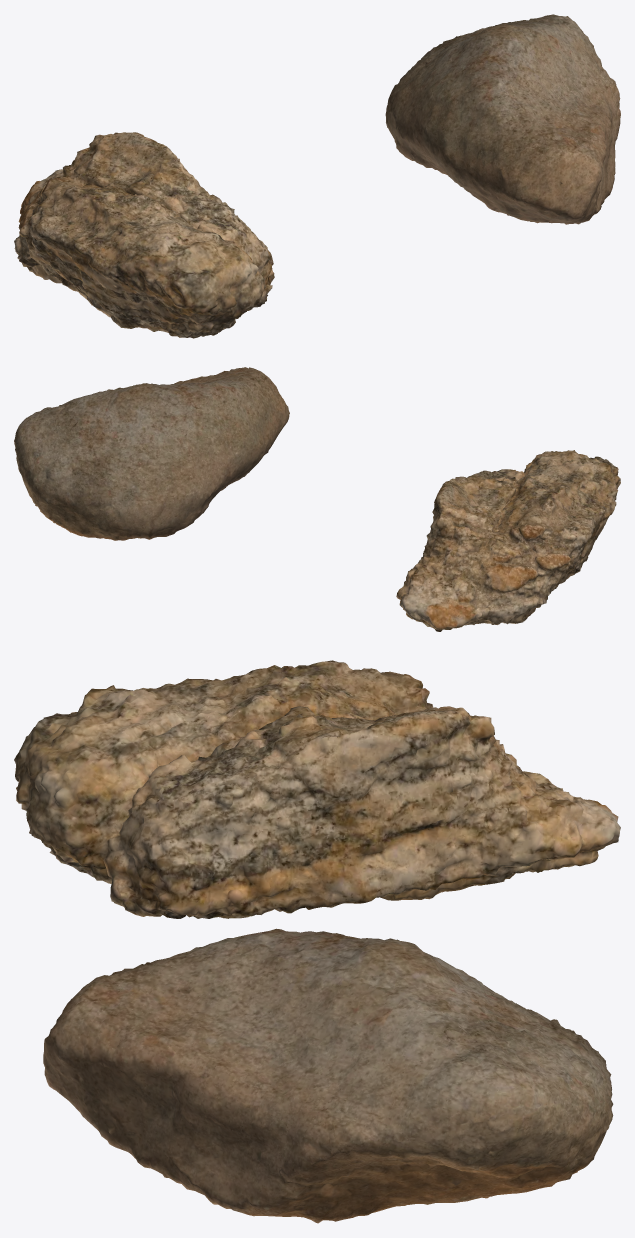
File: namaqualand_boulders_01.glb
The picture shows the model from 3 angles, top to bottom: view 1: azimuth 30°, elevation 25°; view 2: azimuth 150°, elevation 25°; view 3: azimuth 270°, elevation 25°; orthographic projection. The views are drawn at different scales.
Parts seen in each view (by area): view 1: namaqualand_rocks_01_a, namaqualand_rocks_01_b; view 2: namaqualand_rocks_01_a, namaqualand_rocks_01_b; view 3: namaqualand_rocks_01_a, namaqualand_rocks_01_b.
Part boxes in pixels (x1,y1,x2,y2): namaqualand_rocks_01_a: (385, 14, 620, 224); namaqualand_rocks_01_b: (14, 132, 274, 338); namaqualand_rocks_01_a: (14, 367, 289, 540); namaqualand_rocks_01_b: (396, 450, 620, 631); namaqualand_rocks_01_a: (43, 928, 613, 1223); namaqualand_rocks_01_b: (14, 660, 620, 918).
Size of the model in its own units: 1.06 by 0.2516 by 0.5866.
Materials: 1 (1 with a texture image).
